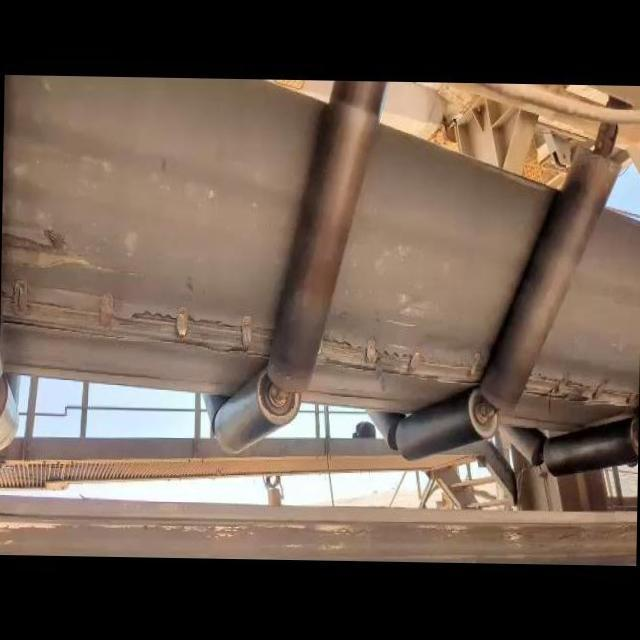Tear: (1, 274, 279, 362), (320, 303, 486, 392), (530, 360, 640, 415)
Wear: (0, 216, 120, 278)
